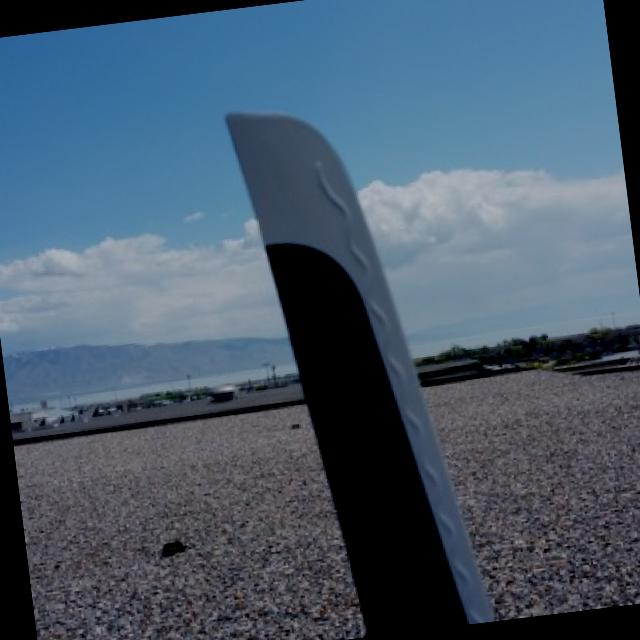healthy: (230, 112, 494, 634)
